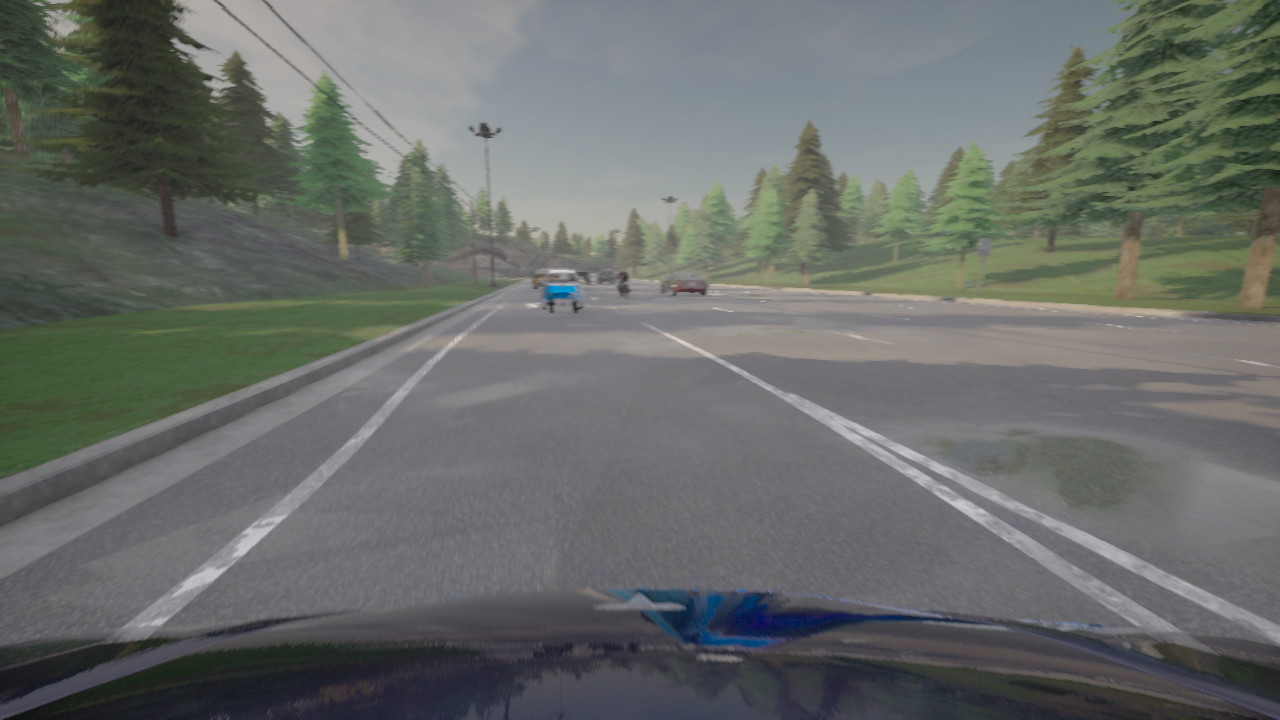cyclist: (0, 588, 1279, 719), (539, 268, 584, 313), (660, 270, 707, 295), (613, 274, 631, 298), (532, 268, 552, 288), (570, 266, 590, 283), (597, 268, 615, 283), (579, 279, 580, 280)
